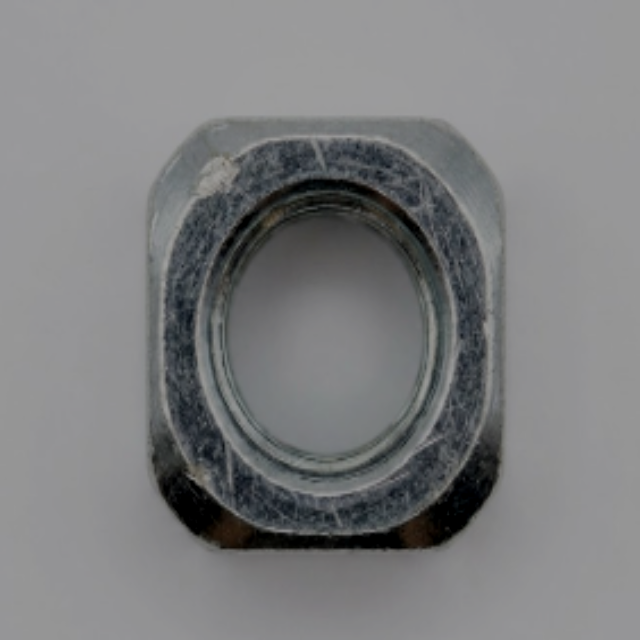defect: (186, 154, 245, 193), (172, 460, 231, 498), (304, 140, 343, 177)
